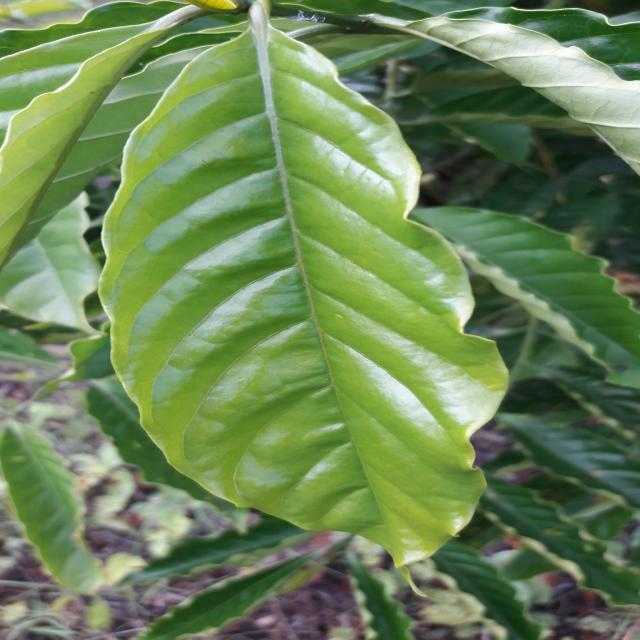Sanas: (94, 0, 510, 572)
